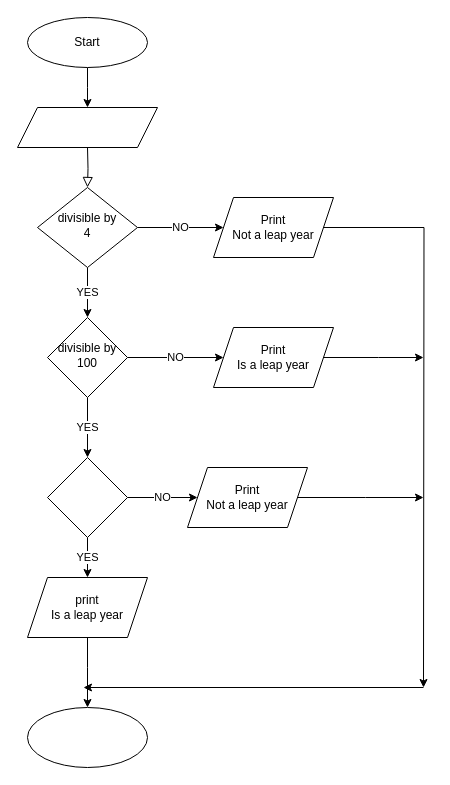
This 450x785 diagram has some shape labels left out. Here are the shapes that lost their labels. From the top down, the centre of each, then its label:
(x=87, y=127): Enter the year
(x=87, y=497): divisible by 400
(x=87, y=737): End
